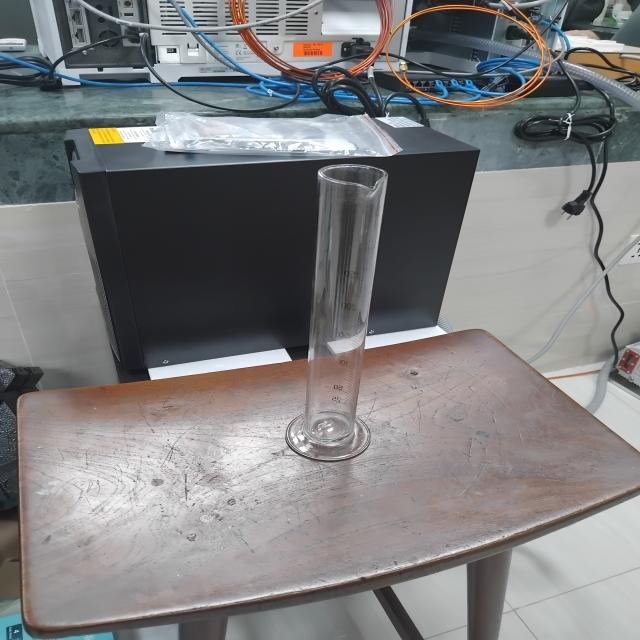Measuring_Cylinder: (263, 130, 420, 495)
